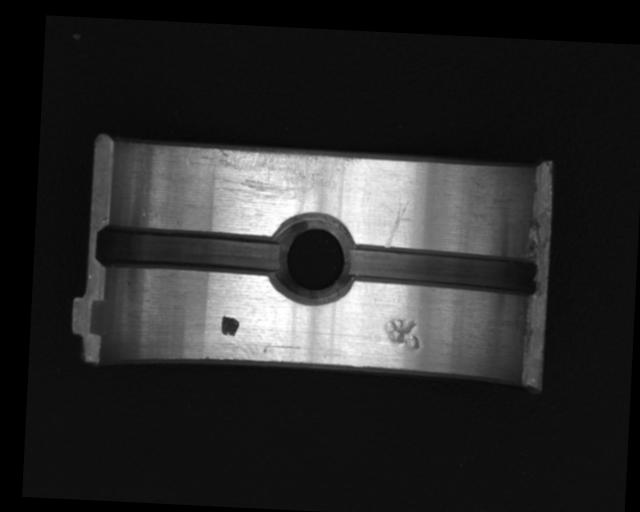blot: (219, 315, 240, 336)
bruise: (382, 317, 422, 350)
gap: (343, 242, 539, 300), (94, 224, 281, 276)
hole: (269, 213, 358, 305)
nick: (383, 191, 411, 249)
scratch: (181, 143, 357, 210)
